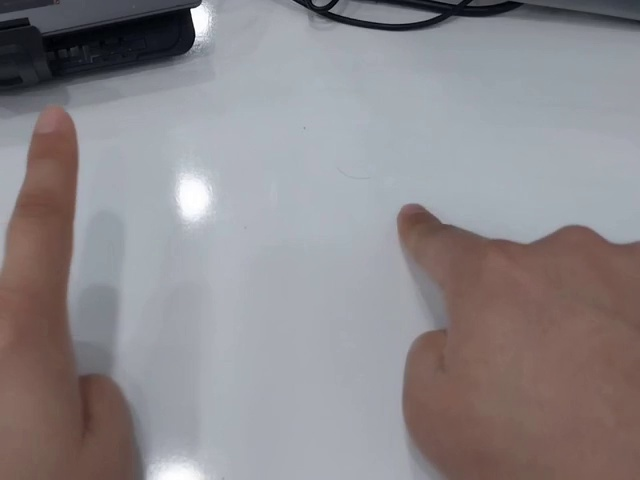fingers: (27, 103, 81, 162), (396, 200, 446, 255)
